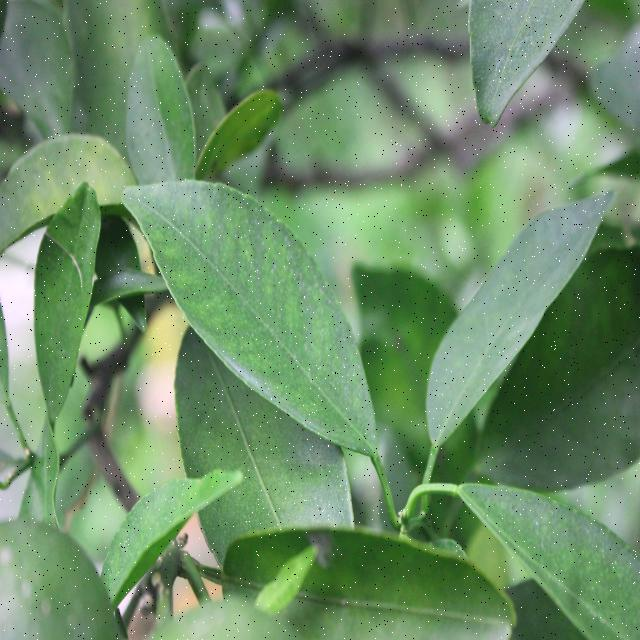blackspot: (197, 221, 351, 426), (274, 428, 336, 526)
